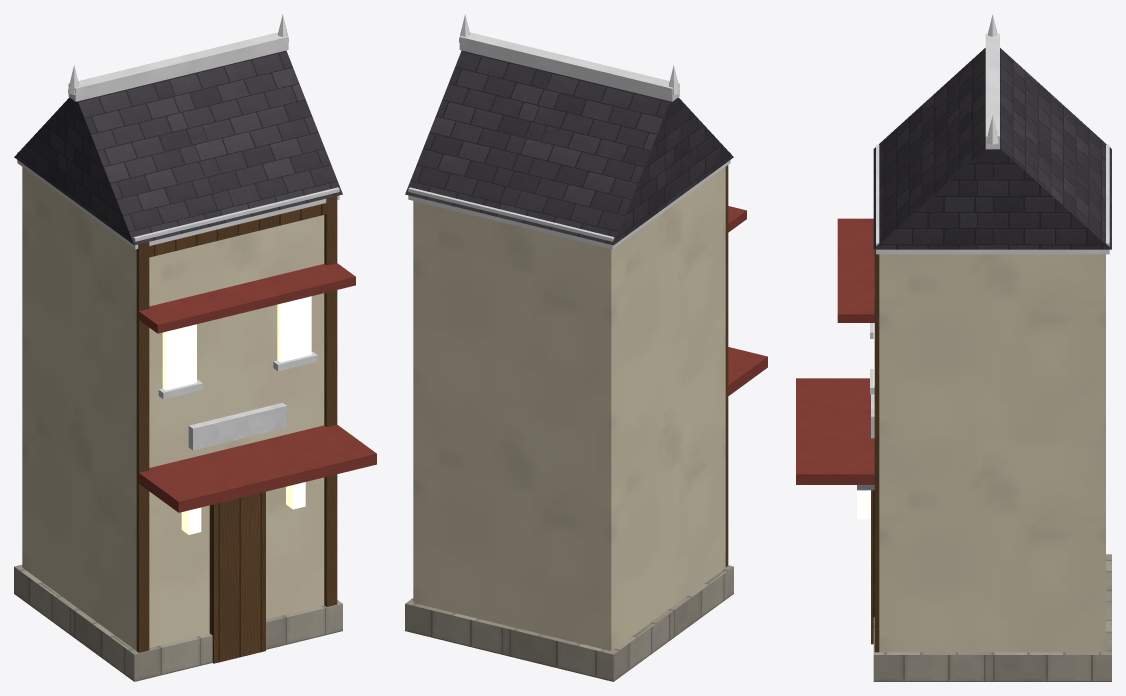
Rendered from category.dex.t6.glb.
3 renders of one model, left to right at view 1: azimuth 30°, elevation 25°; view 2: azimuth 150°, elevation 25°; view 3: azimuth 270°, elevation 25°, orthographic.
Visible parts, largest first — view 1: building.category.dex.t6; view 2: building.category.dex.t6; view 3: building.category.dex.t6.
Part boxes in pixels (bbox=[...]): building.category.dex.t6: bbox=[14, 14, 376, 681]; building.category.dex.t6: bbox=[405, 14, 767, 681]; building.category.dex.t6: bbox=[796, 14, 1111, 681].
Size of the model in its own units: 2.12 by 5.25 by 2.65.
9 materials, 8 textured.
